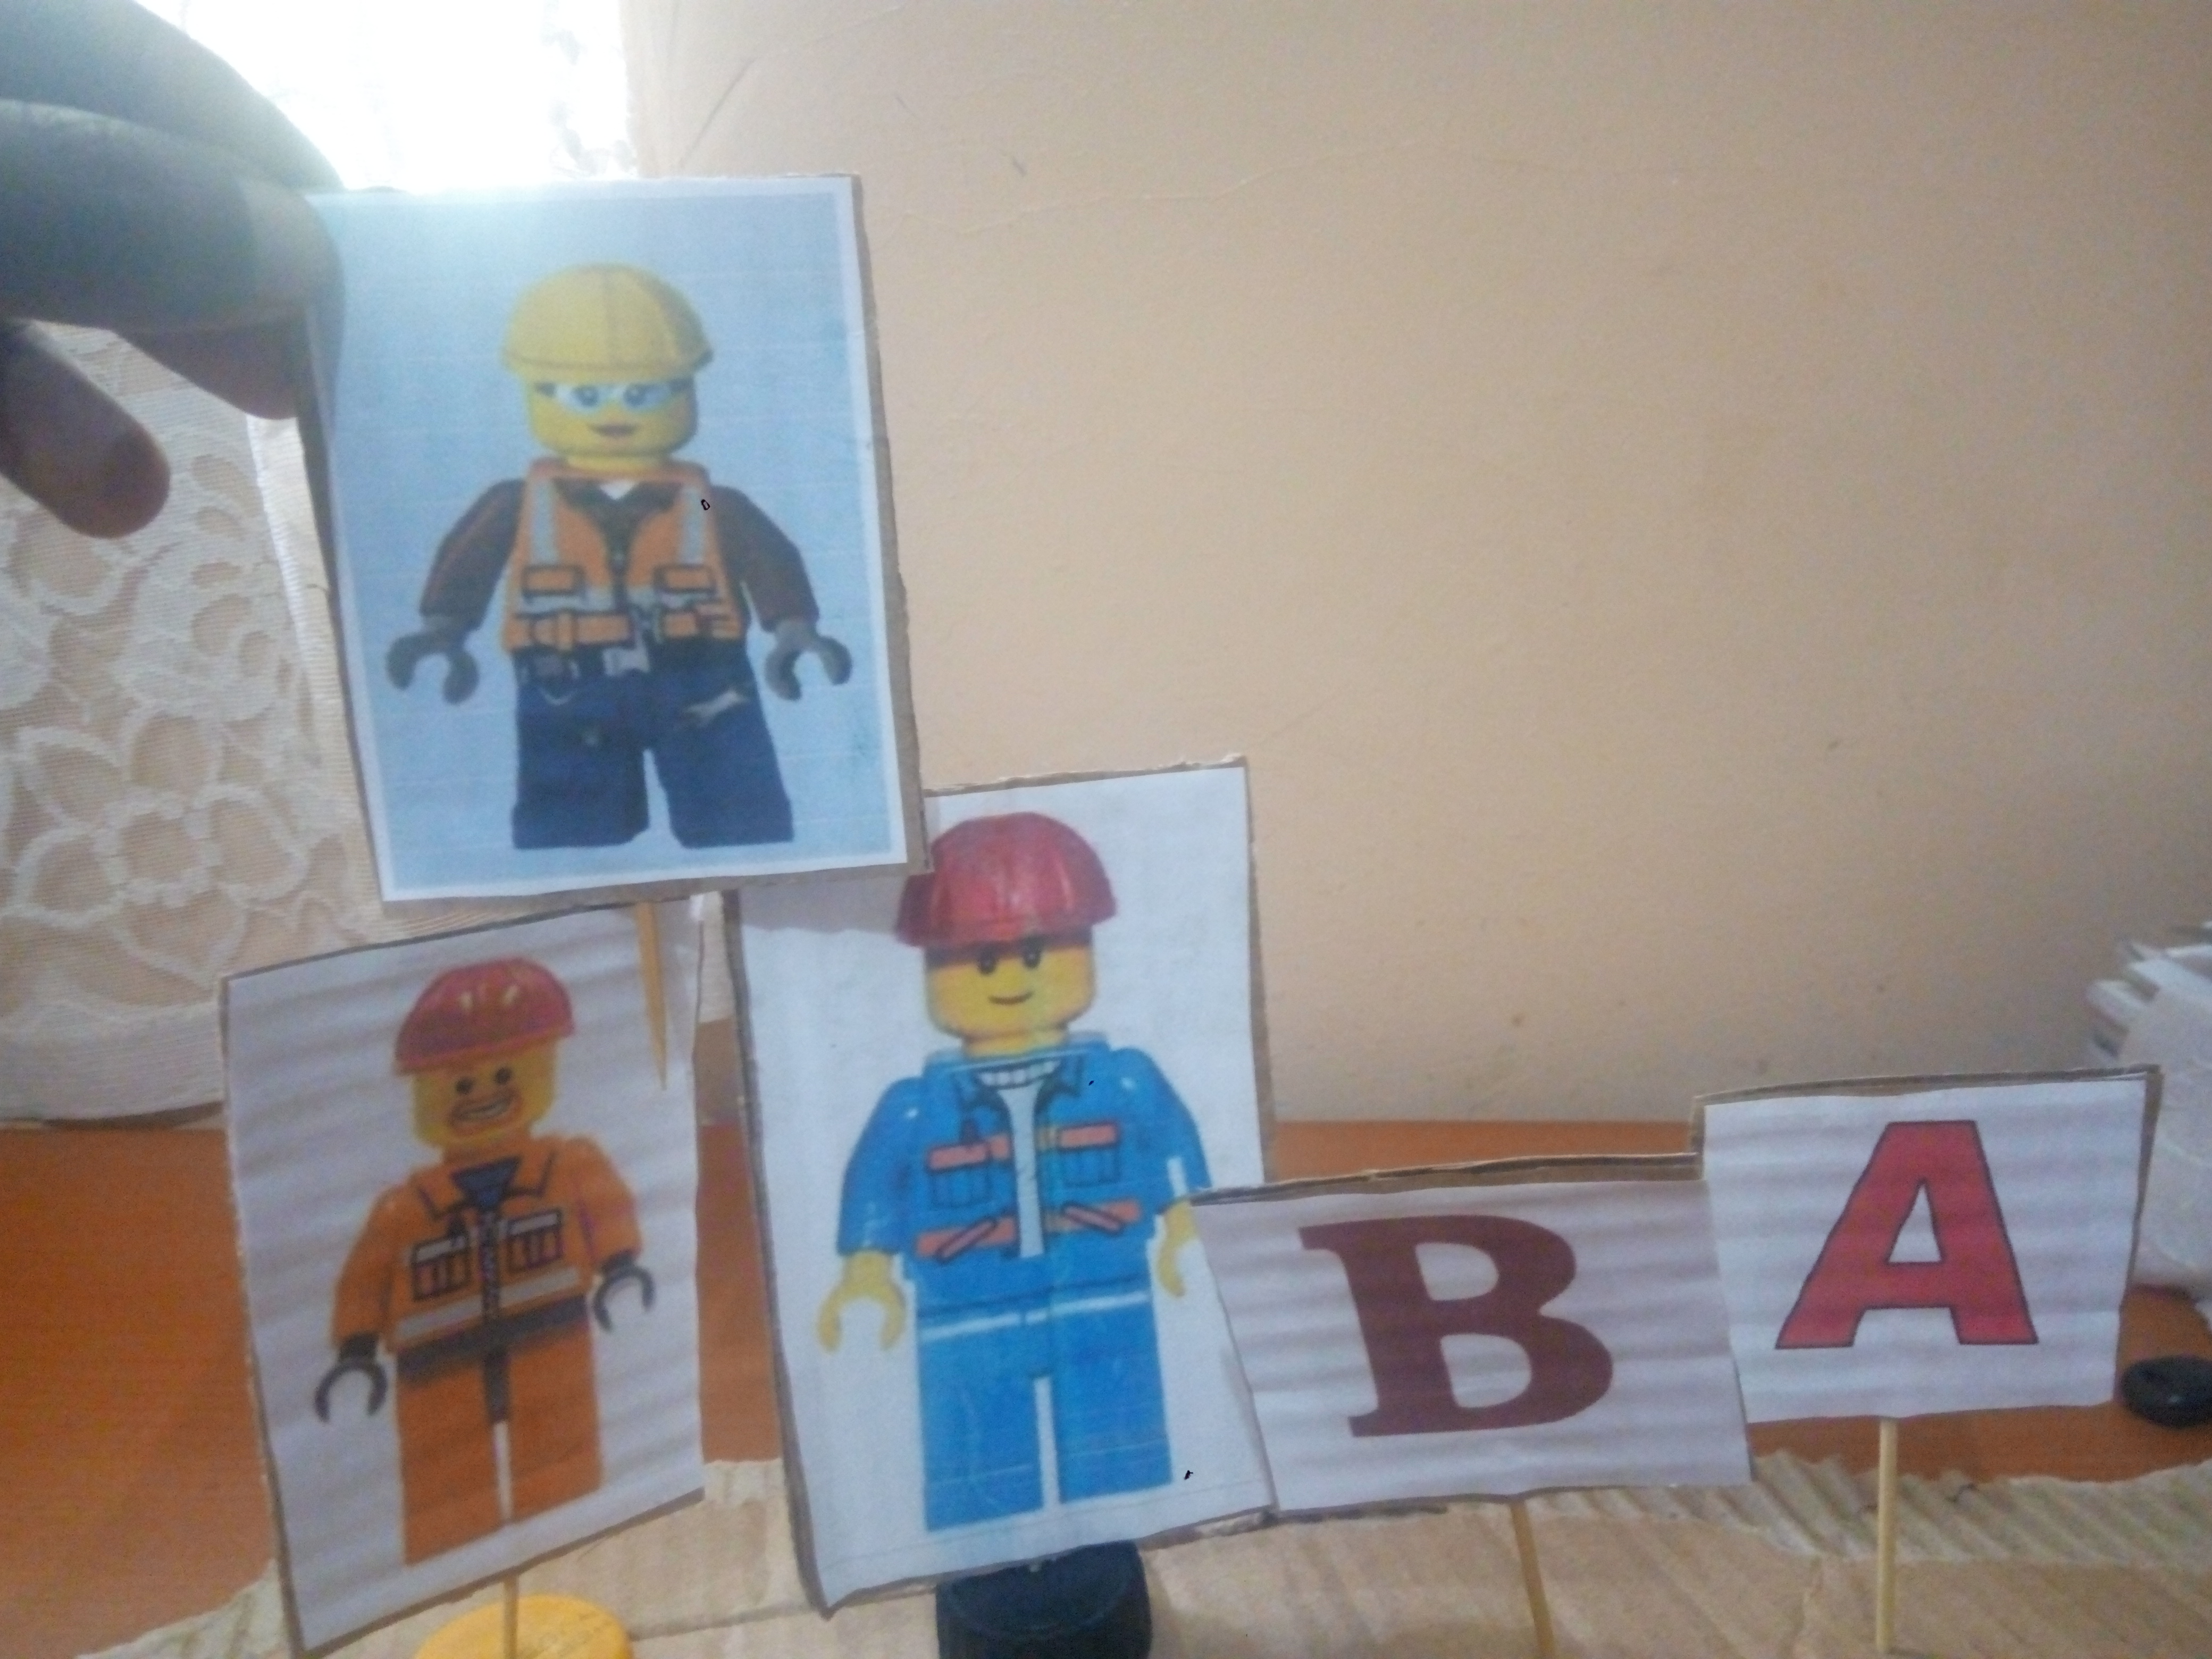pedestrian: (364, 237, 872, 867), (829, 814, 1258, 1550), (319, 968, 675, 1566)
zone A: (1765, 1103, 2100, 1430)
zone B: (1297, 1204, 1672, 1481)
